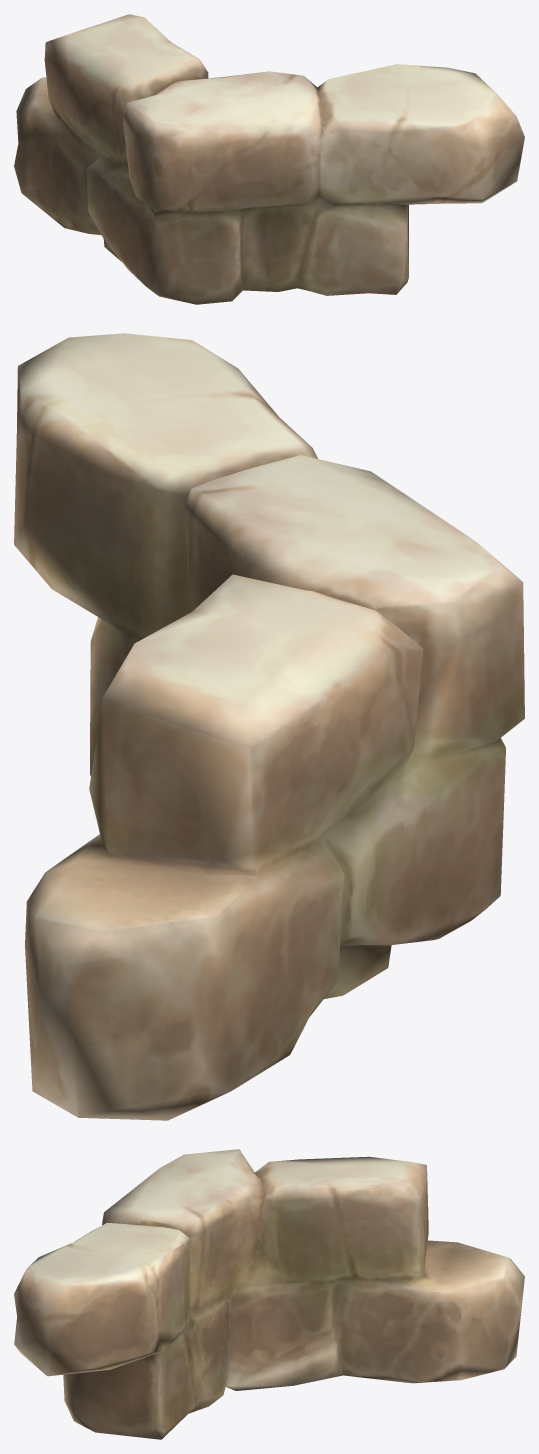
The model's file is mesh_StoneWall_Outer_1_Half.fbx.
3 renders of one model, top to bottom at view 1: azimuth 30°, elevation 25°; view 2: azimuth 150°, elevation 25°; view 3: azimuth 270°, elevation 25°, orthographic. The views are drawn at different scales.
Parts seen in each view (by area): view 1: StoneWall_Outer_1_Half_LOD0; view 2: StoneWall_Outer_1_Half_LOD0; view 3: StoneWall_Outer_1_Half_LOD0.
Part boxes in pixels (box(x1,y1,x2,y2)): StoneWall_Outer_1_Half_LOD0: box(14, 14, 524, 304); StoneWall_Outer_1_Half_LOD0: box(14, 333, 524, 1120); StoneWall_Outer_1_Half_LOD0: box(14, 1149, 524, 1439).
Size of what is drawn, in the model's own units: 5.8 by 3.45 by 8.23.
Materials: 1 (1 with a texture image).
